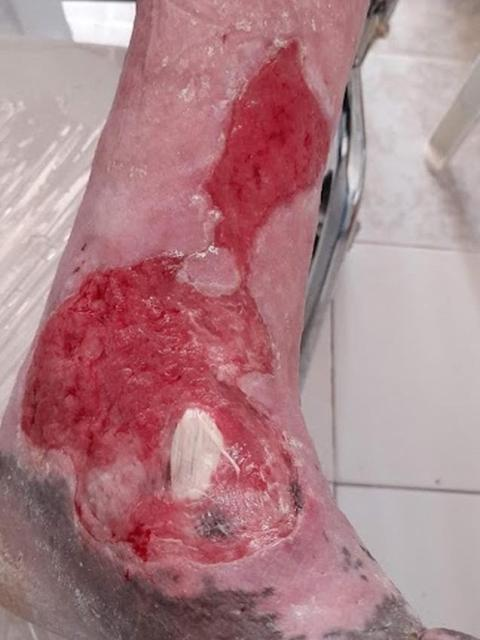wound: (20, 36, 332, 565)
